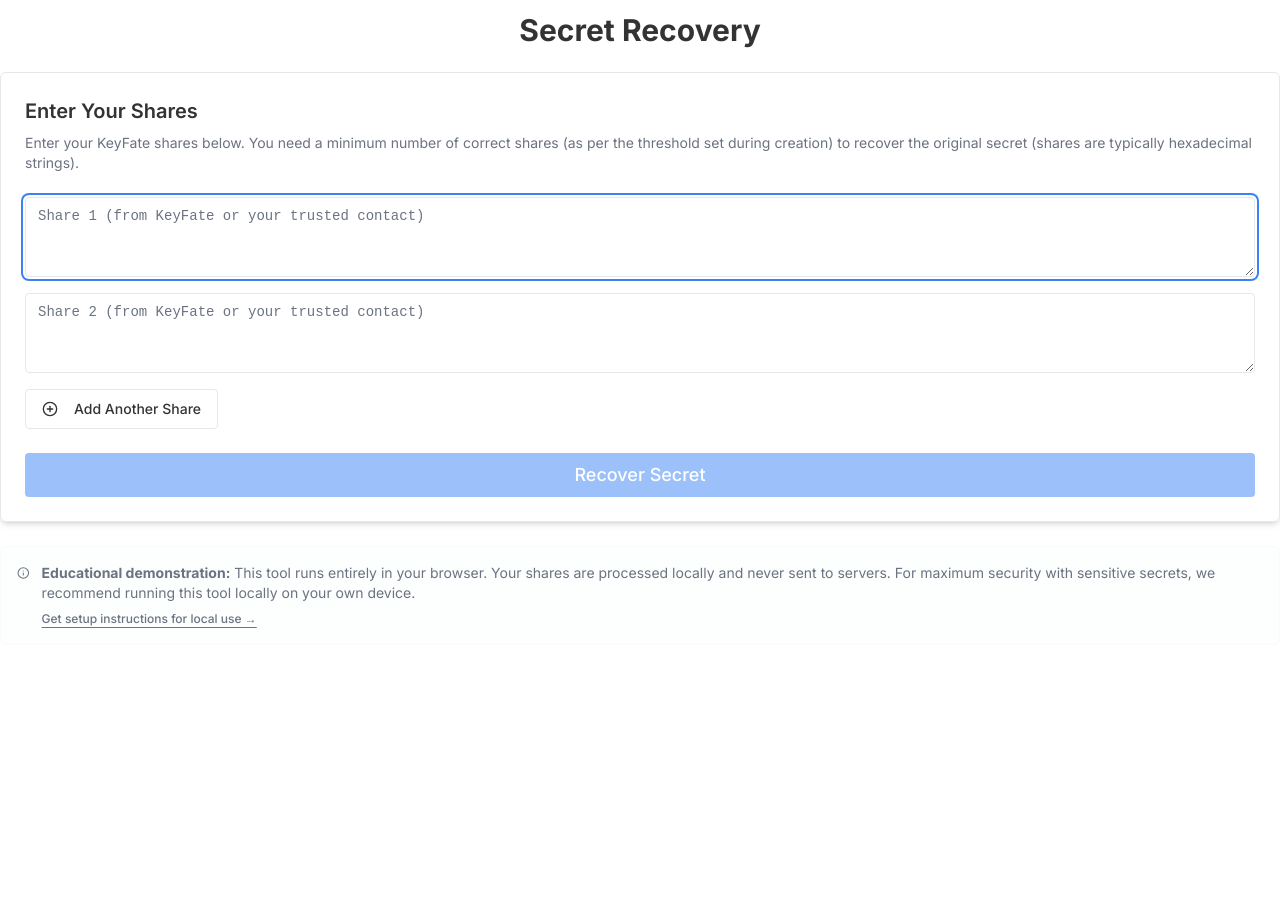
Test: SssDecryptor › should add share input when button clicked
The width and height of the screenshot is (1280, 912).
Click the button "Add Another Share" at (122, 409), box [25,389,218,429]
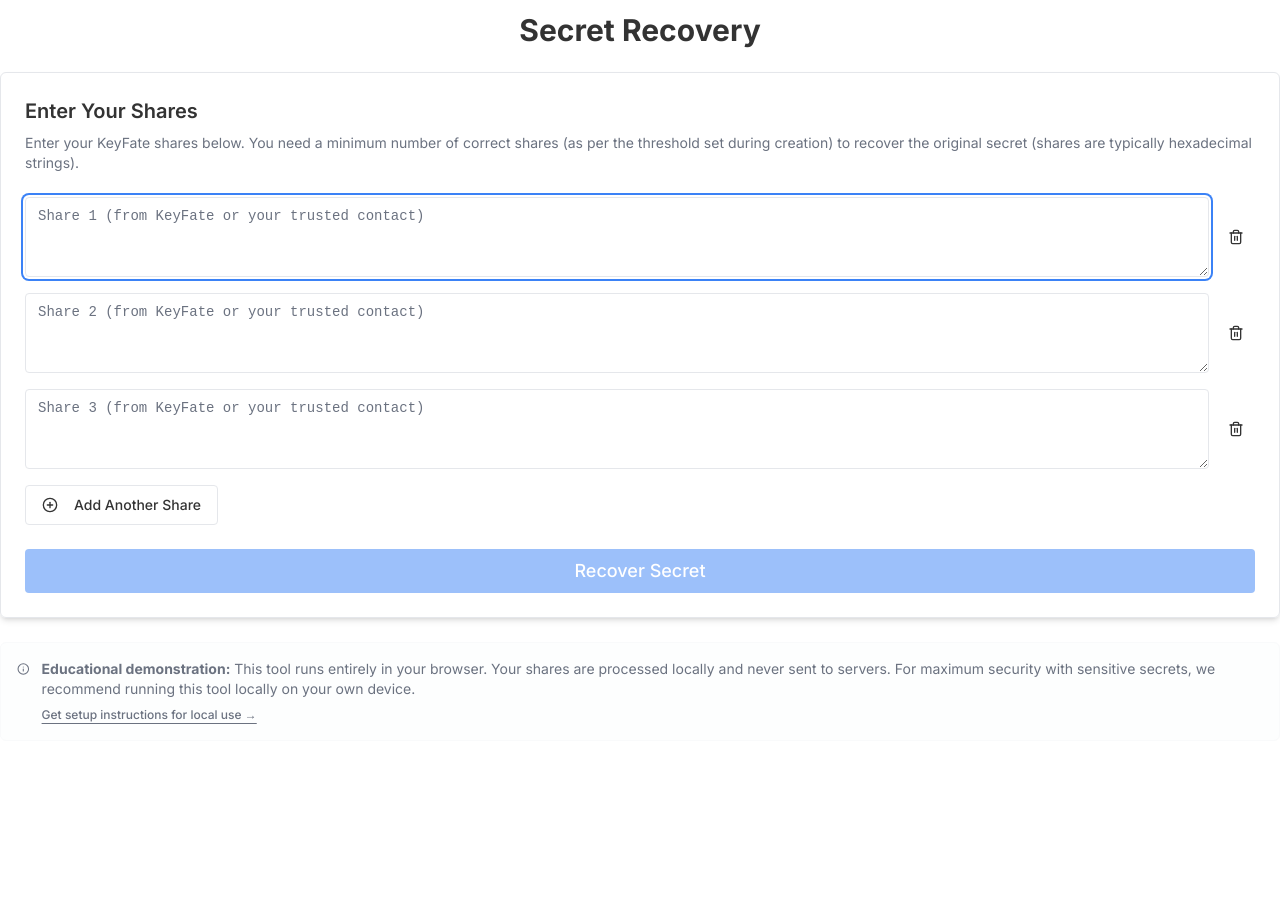
Now the number of text boxes with placeholder "Share 1 (from KeyFate or your trusted contact)" is 3, box [25,197,1208,277]; [25,293,1208,373]; [25,389,1208,469]
